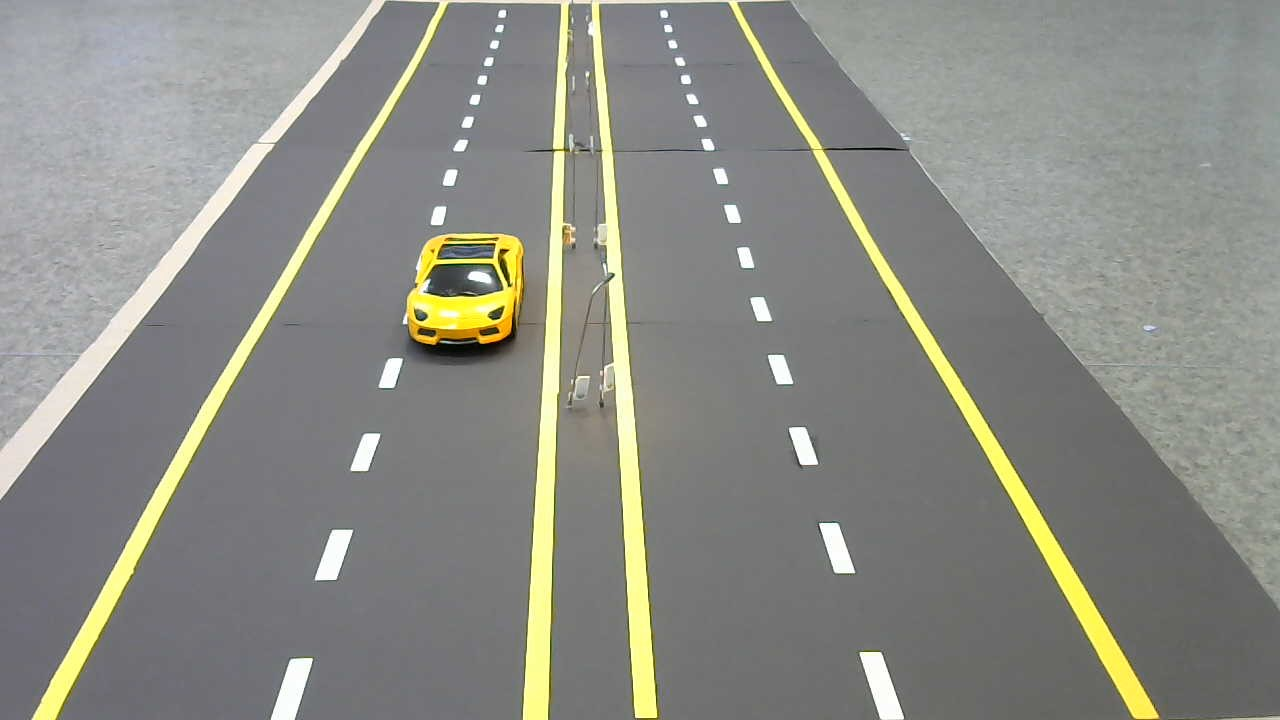front_car: (398, 226, 529, 359)
